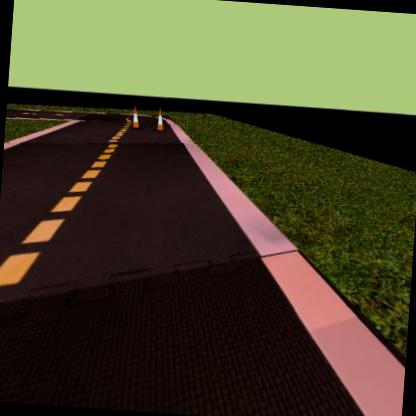Cone: (154, 106, 167, 134), (132, 106, 142, 130)
